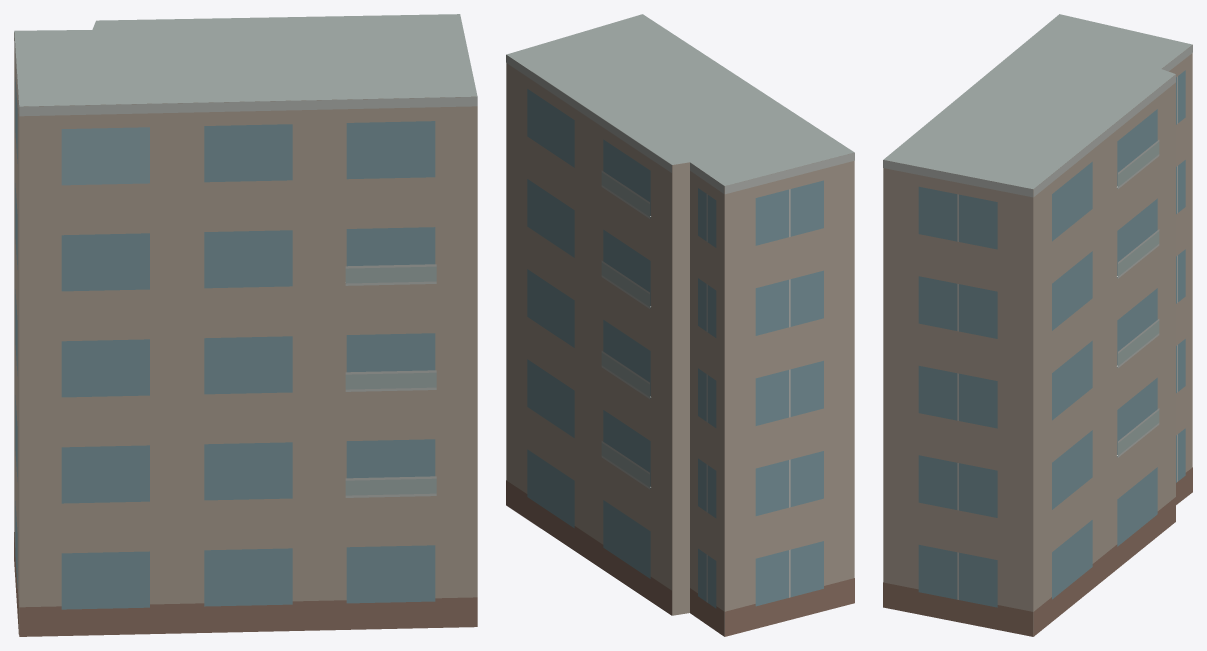
Rendered from survey-upis-32729598.glb.
The picture shows the model from 3 angles, left to right: view 1: azimuth 30°, elevation 25°; view 2: azimuth 150°, elevation 25°; view 3: azimuth 270°, elevation 25°; orthographic projection. The views are drawn at different scales.
Visible parts, largest first — view 1: survey-upis-32729598.tmp; view 2: survey-upis-32729598.tmp; view 3: survey-upis-32729598.tmp.
Part boxes in pixels (x1,y1,x2,y2): survey-upis-32729598.tmp: (14, 14, 477, 636); survey-upis-32729598.tmp: (506, 14, 854, 636); survey-upis-32729598.tmp: (883, 14, 1192, 636).
Size of the model in its own units: 11.18 by 13.3 by 8.35.
